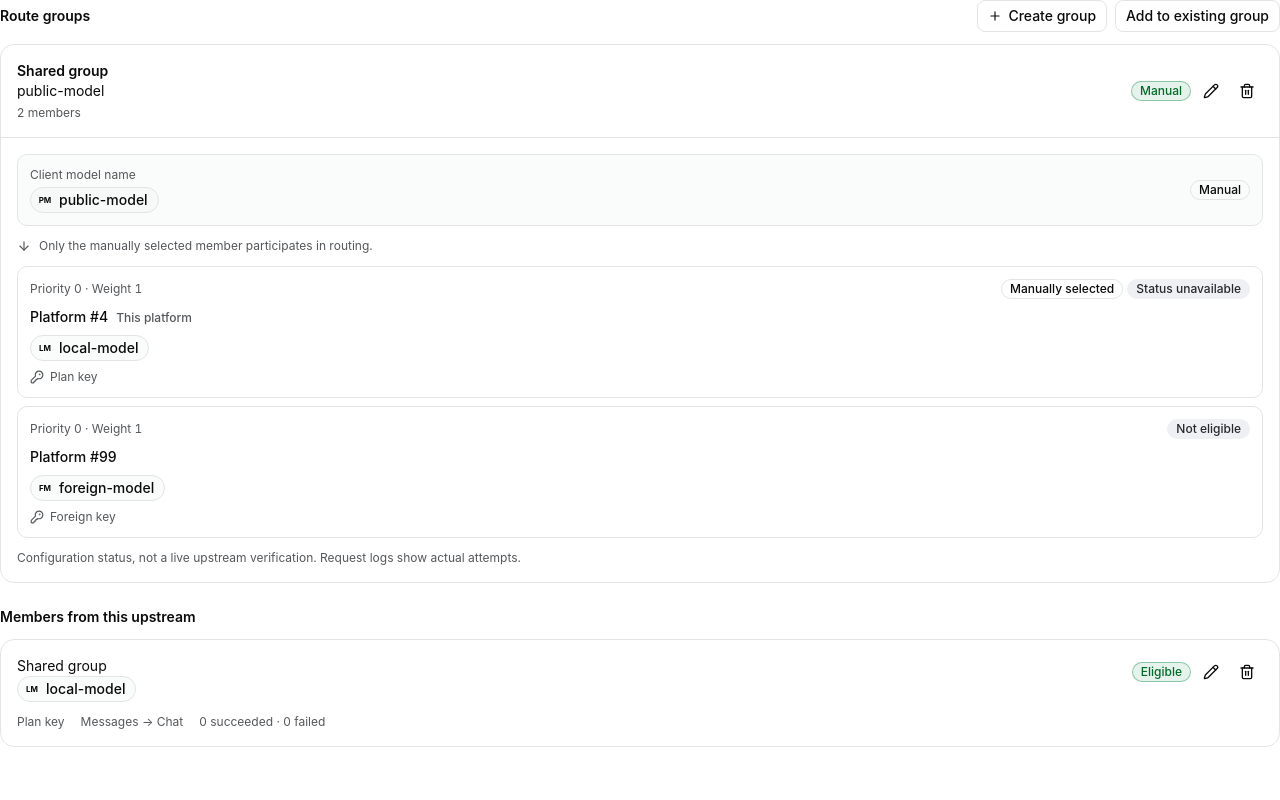
upstream route group management › restores a leaf member and opens explicit review when its deletion preview changes during the undo window
Expected: the button named "Edit group Shared group" is shown, top-left (1195, 75), bottom-right (1227, 107)
Click the button named "Delete member local-model" at point(1247, 672), box top-left (1231, 656), bottom-right (1263, 688)
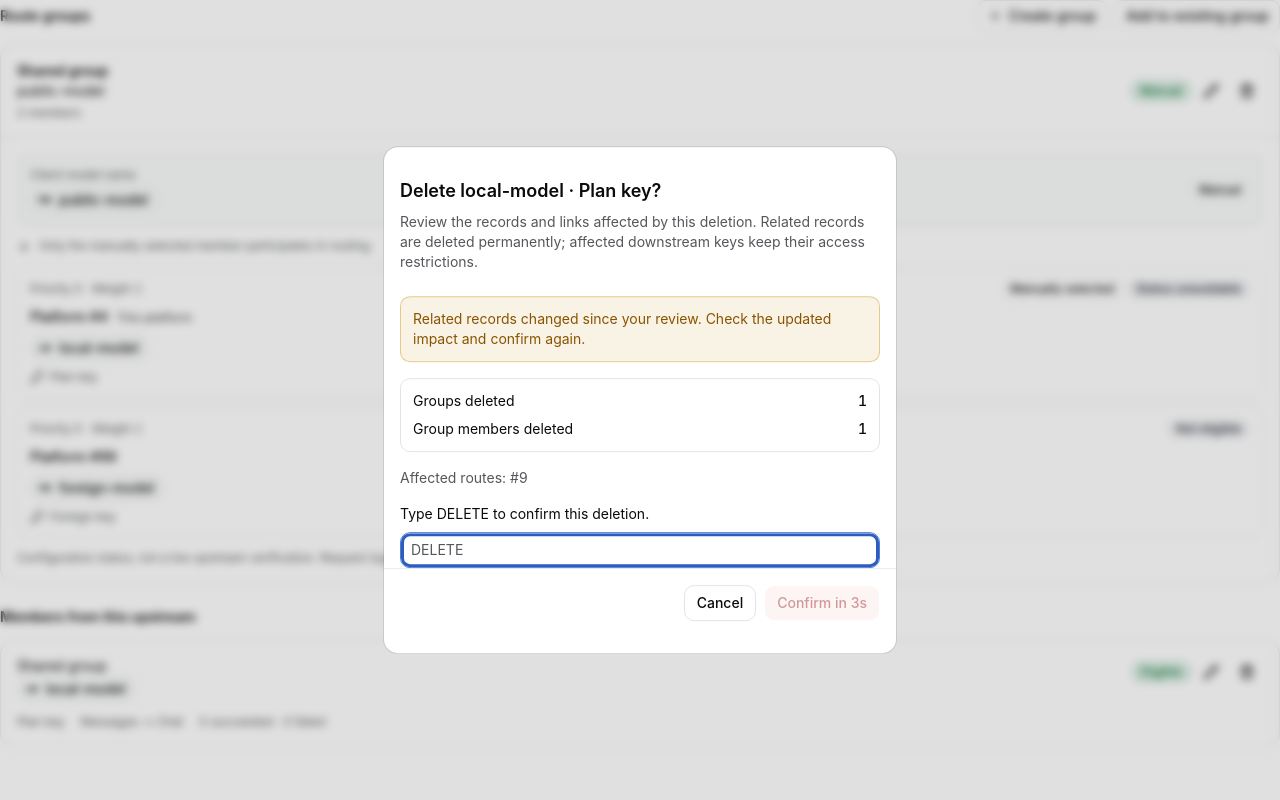
Expected: the dialog is shown, top-left (384, 147), bottom-right (896, 653)
Expected: the message shows "changed", top-left (413, 310), bottom-right (831, 347)
Expected: the field with placeholder "DELETE" is empty, top-left (400, 532), bottom-right (880, 568)
